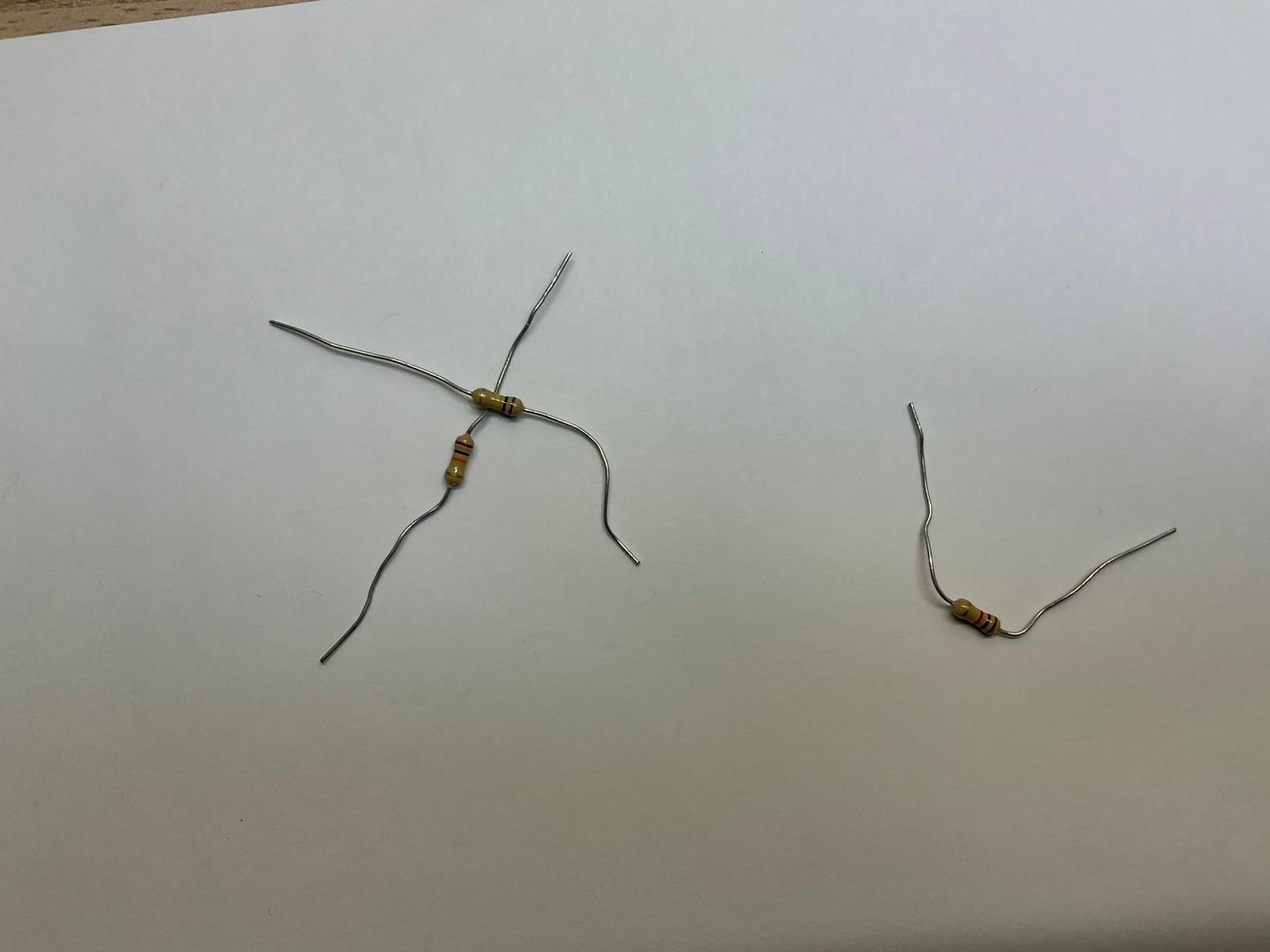resistor: (949, 596, 1003, 636), (444, 434, 474, 487), (471, 388, 523, 417)
